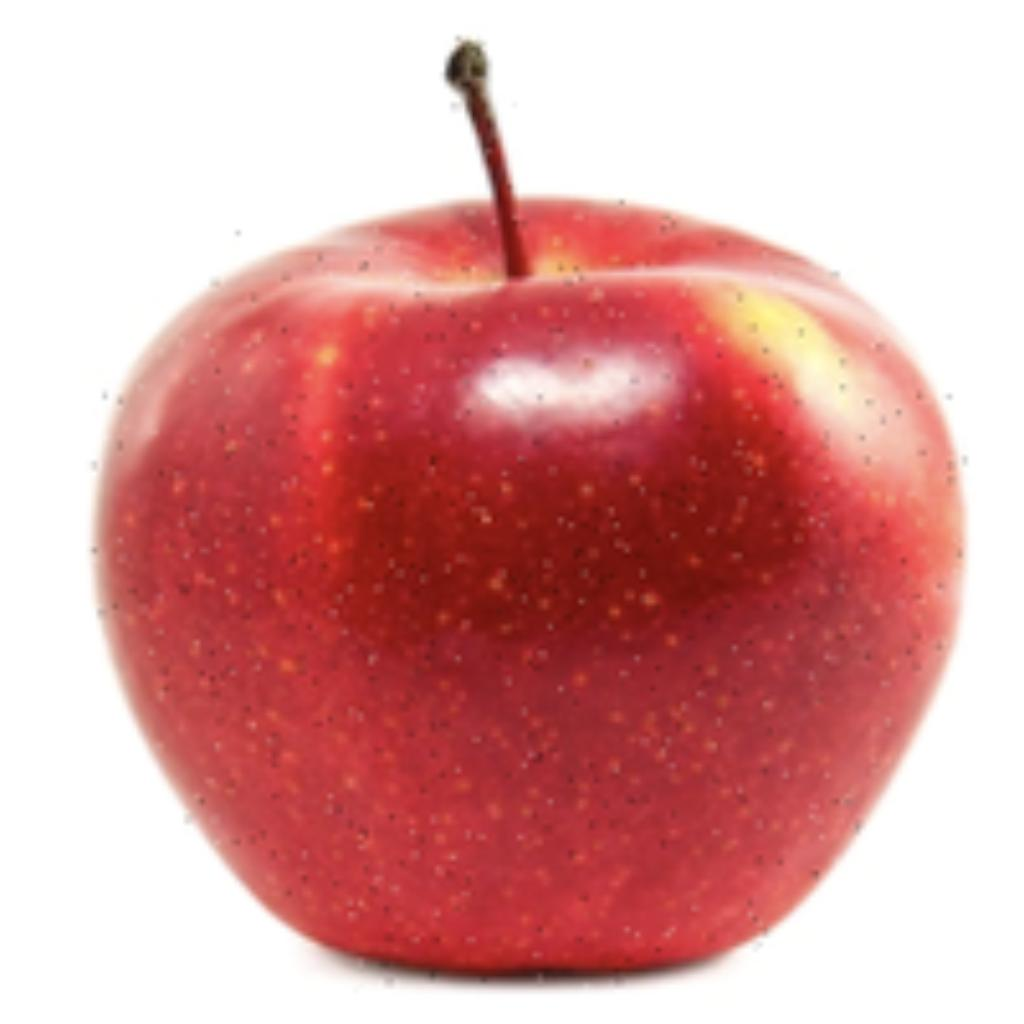apple: (82, 31, 968, 993)
